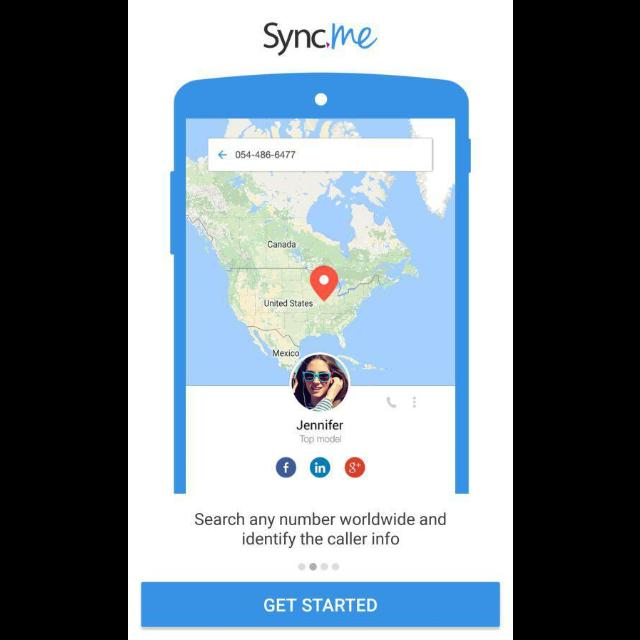image: (168, 73, 472, 493), (262, 23, 378, 57)
pageindicator: (297, 562, 339, 572)
text: (194, 512, 446, 548)
textbutton: (141, 583, 499, 627)
